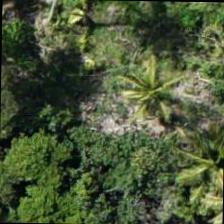Kelapa_Sawit: (100, 46, 192, 138), (168, 115, 223, 207)
